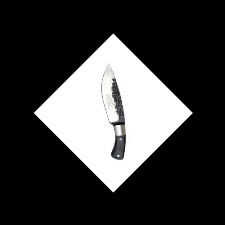k1: (98, 62, 127, 132)
